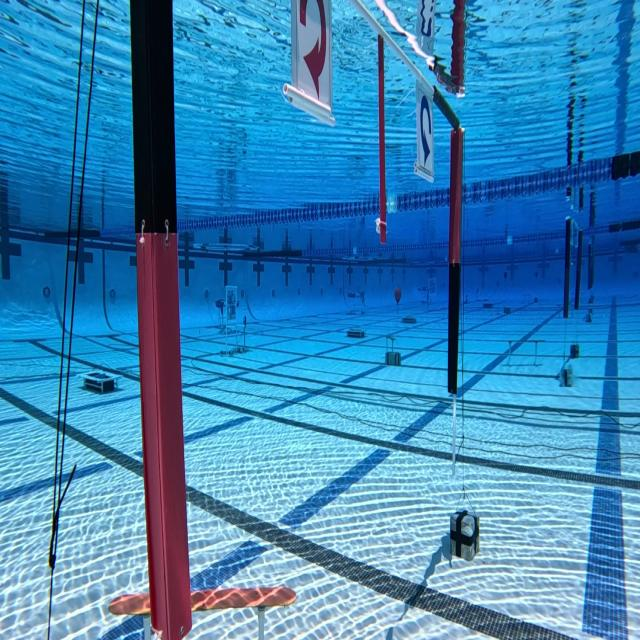blue_side: (418, 89, 438, 191)
